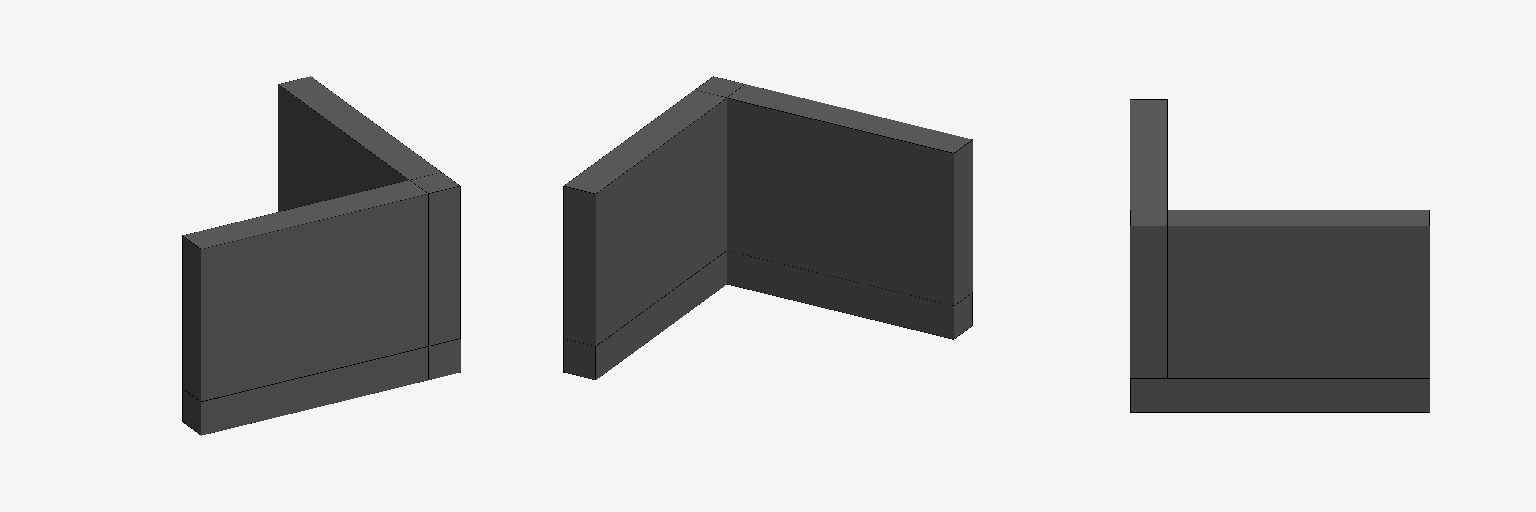
The picture shows the model from 3 angles: view 1: azimuth 30°, elevation 25°; view 2: azimuth 150°, elevation 25°; view 3: azimuth 270°, elevation 25°; orthographic projection.
Visible parts, largest first — view 1: corner_Cube; view 2: corner_Cube; view 3: corner_Cube.
Part boxes in pixels (x1,y1,x2,y2): corner_Cube: (182,76,460,435); corner_Cube: (563,76,972,379); corner_Cube: (1130,99,1429,412).
Bounding box in the file's own units: 16 × 11 × 16.
Materials: 1 (1 with a texture image).